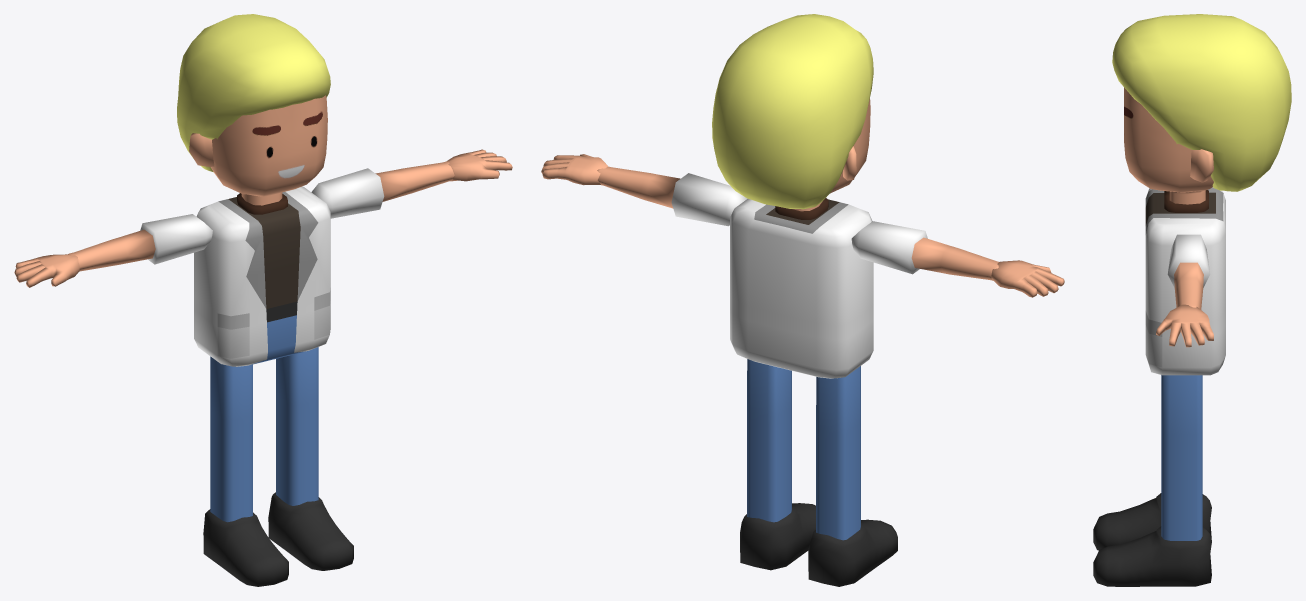
Rendered from NPC_White02_BlondeHair05.gltf.
The picture shows the model from 3 angles, left to right: view 1: azimuth 30°, elevation 25°; view 2: azimuth 150°, elevation 25°; view 3: azimuth 270°, elevation 25°; orthographic projection. The views are drawn at different scales.
Parts seen in each view (by area): view 1: NPC_Corpo_White2_BlondeHair.005; view 2: NPC_Corpo_White2_BlondeHair.005; view 3: NPC_Corpo_White2_BlondeHair.005.
Boxes of the visible parts, box(x1,y1,x2,y2) form: NPC_Corpo_White2_BlondeHair.005: box(14, 14, 512, 586); NPC_Corpo_White2_BlondeHair.005: box(541, 14, 1064, 586); NPC_Corpo_White2_BlondeHair.005: box(1093, 14, 1291, 586).
Size of the model in its own units: 2.31 by 2.3 by 0.7742.
1 material, 1 textured.
